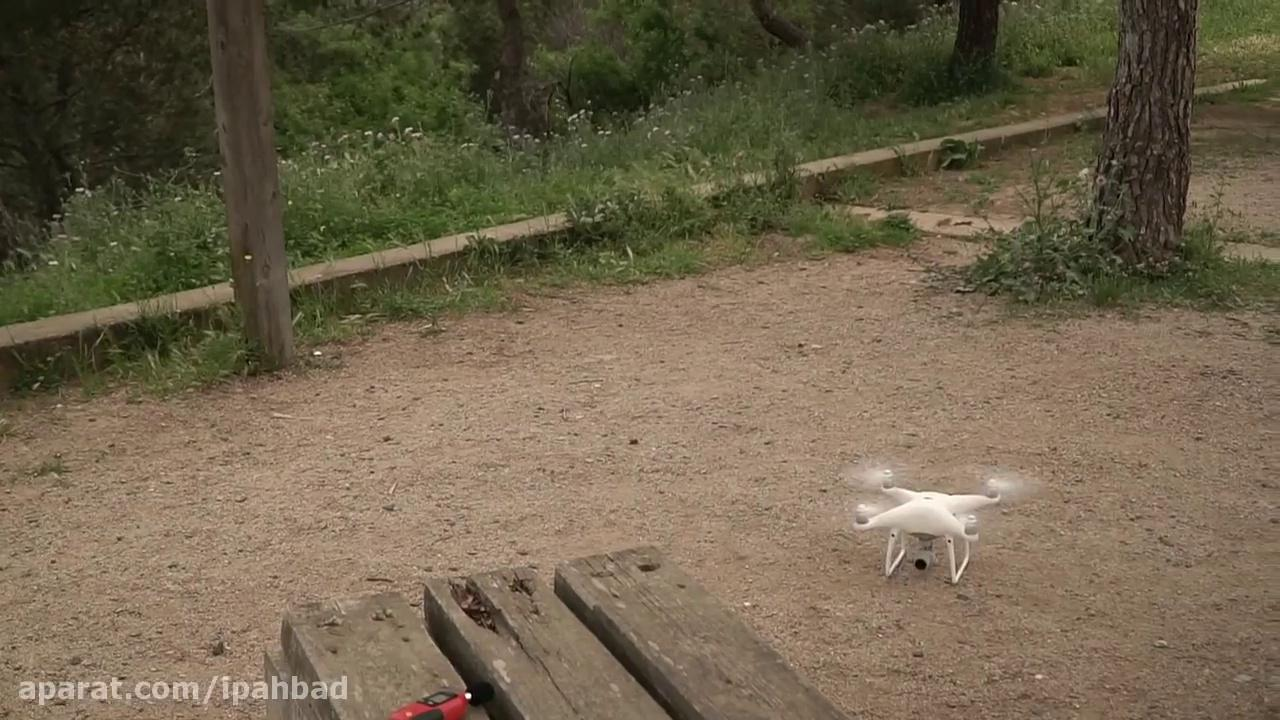drone: (836, 461, 1042, 582)
